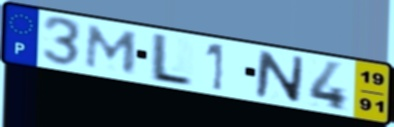1: (203, 42, 226, 92)
3: (40, 15, 83, 69)
4: (306, 60, 351, 112)
L: (147, 32, 196, 89)
M: (82, 23, 141, 76)
N: (252, 48, 306, 105)
